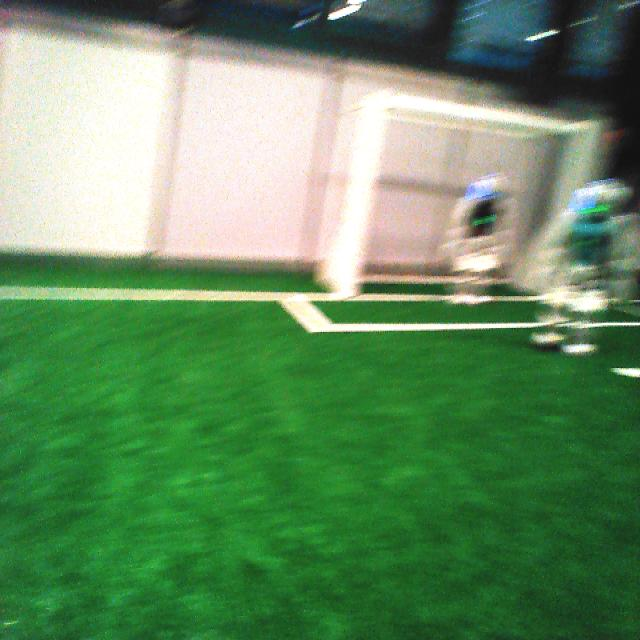goalpost: (336, 93, 391, 295), (558, 122, 598, 206)
